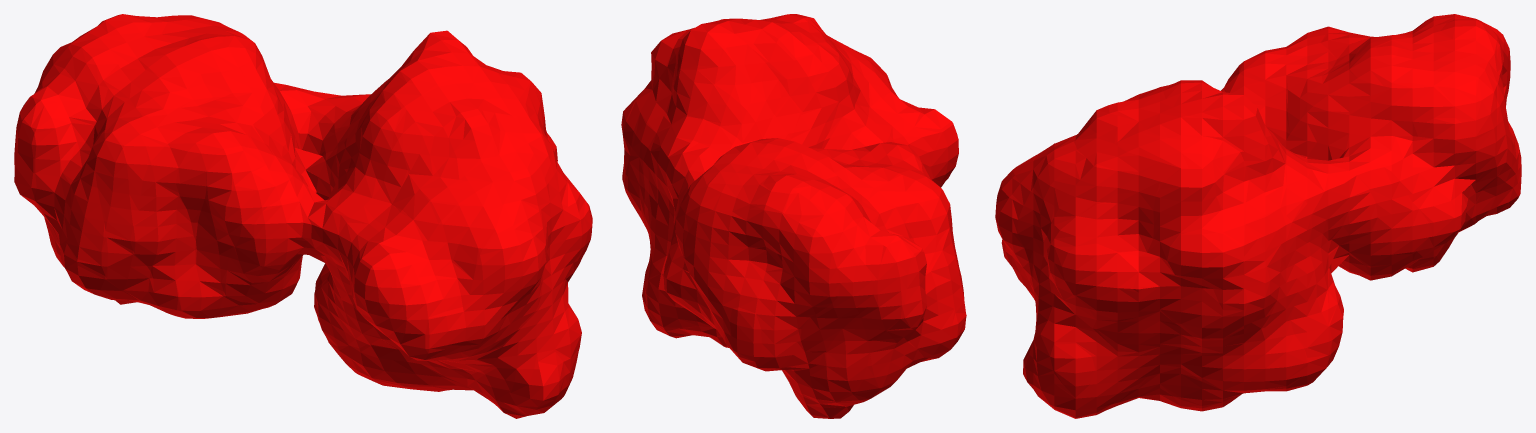
The model's file is rhlB_coarse.dae.
3 renders of one model, left to right at view 1: azimuth 30°, elevation 25°; view 2: azimuth 150°, elevation 25°; view 3: azimuth 270°, elevation 25°, orthographic. The views are drawn at different scales.
Visible parts, largest first — view 1: rhlB; view 2: rhlB; view 3: rhlB.
Boxes of the visible parts, left/top/right/bottom form: rhlB: left=14, top=14, right=592, bottom=418; rhlB: left=621, top=14, right=966, bottom=418; rhlB: left=995, top=14, right=1521, bottom=418.
Size of the model in its own units: 66.53 by 49.72 by 73.98.
